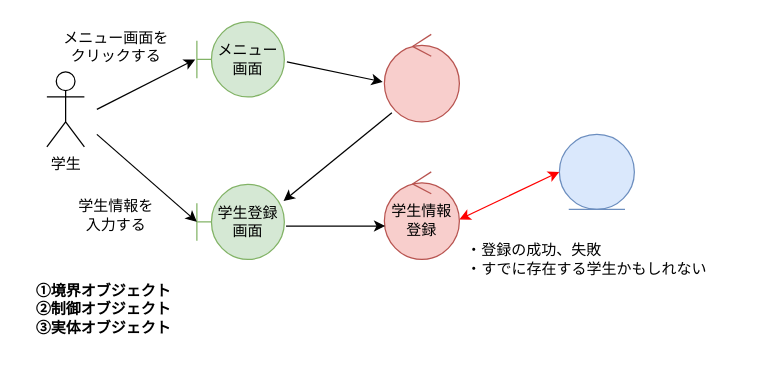
This 760x369 diagram has some shape labels left out. The centre of each missing label's shape, as x and y in pixels:
"学生オブジェクト" belongs at pixel 596 171.
"表示 （する）" belongs at pixel 421 77.
